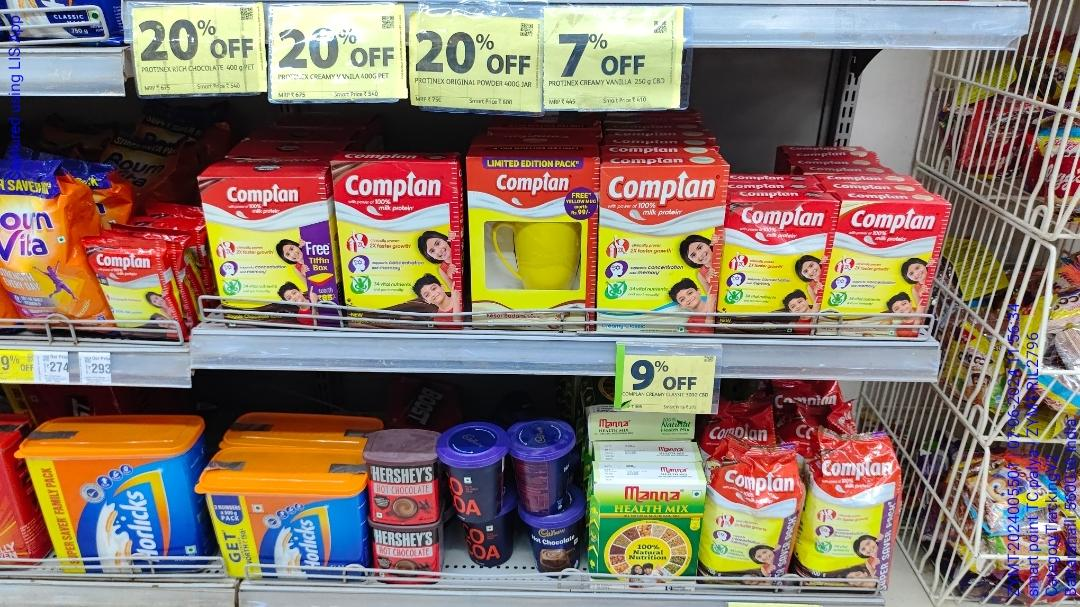HORLICK_MALT_1_KG_CONTAINER: (29, 415, 188, 560), (211, 475, 372, 575)
